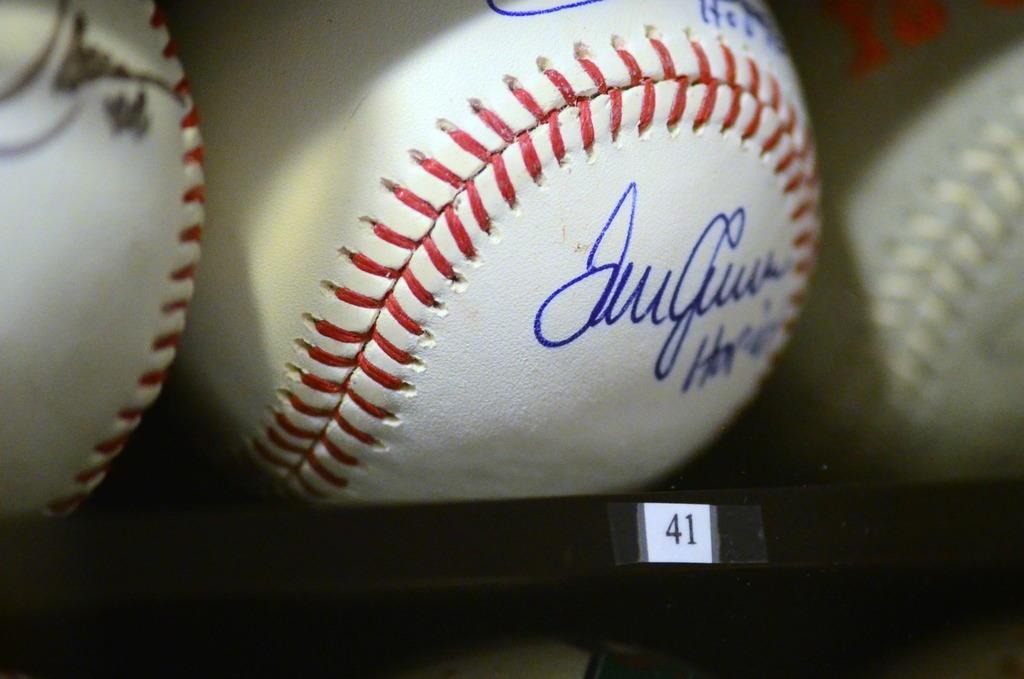Ball: (176, 0, 822, 505), (774, 0, 1023, 488), (0, 0, 205, 525)
